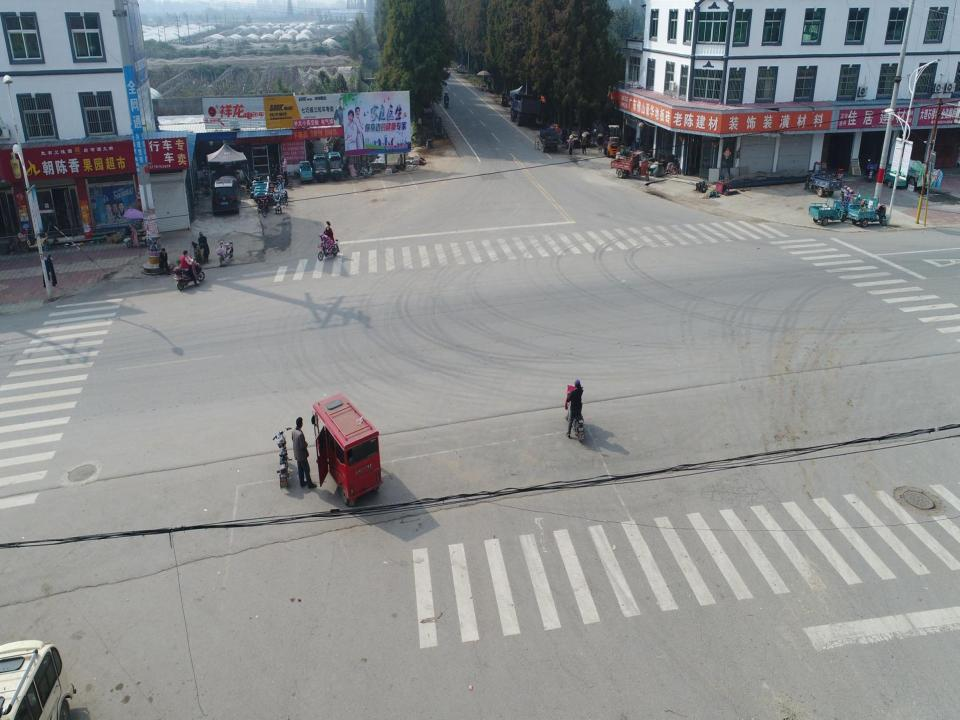car: (213, 174, 240, 216)
truck: (511, 92, 541, 124), (604, 125, 621, 158)
